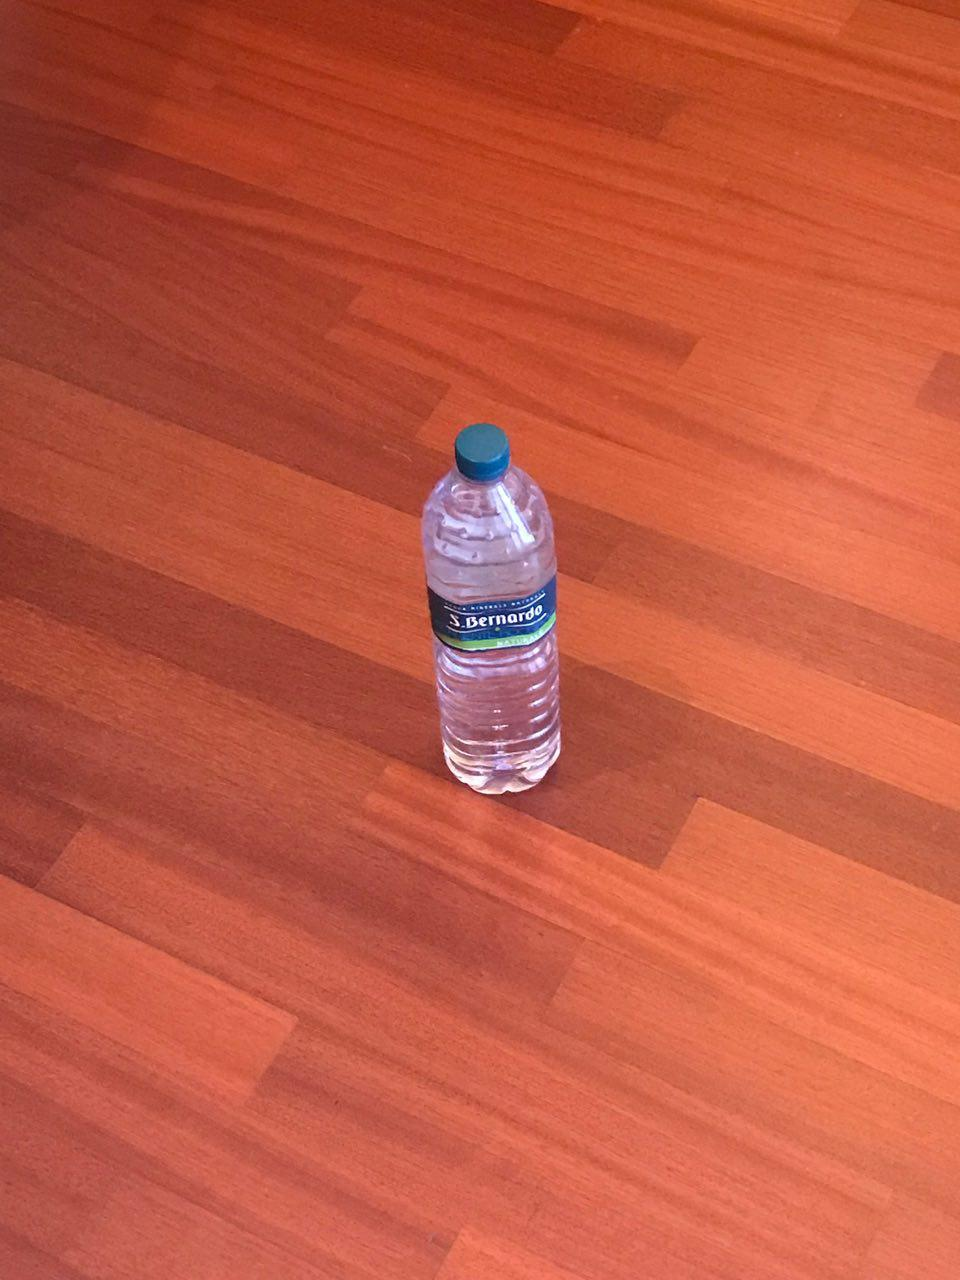san_bernardo: (419, 420, 562, 798)
